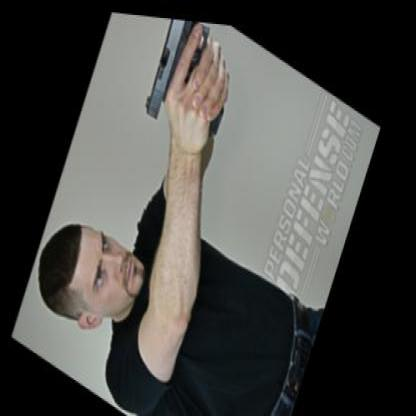pistol: (137, 12, 248, 155)
